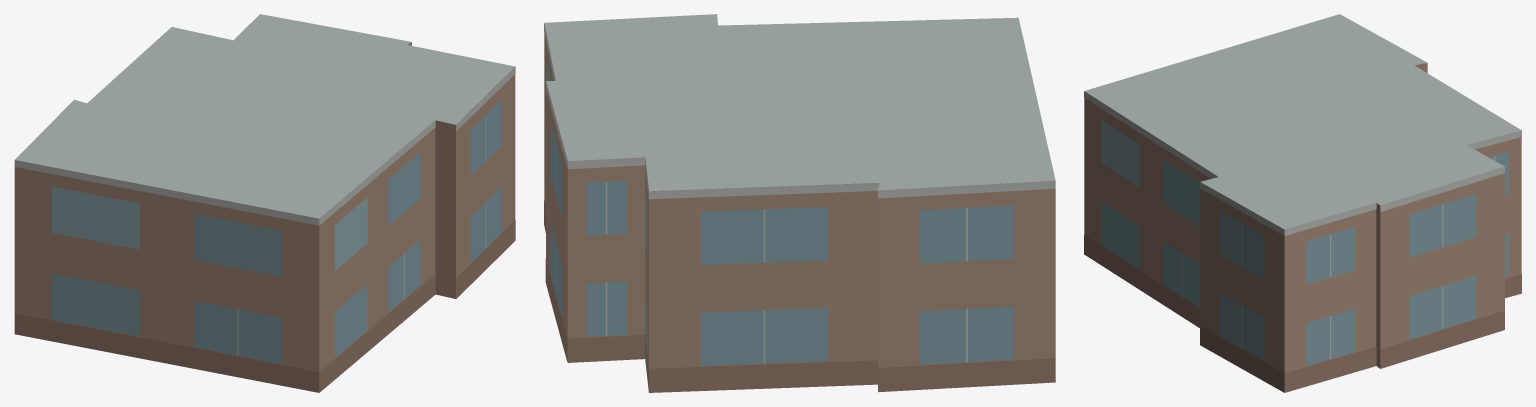
Rendered from survey-upis-32675361.glb.
3 renders of one model, left to right at view 1: azimuth 30°, elevation 25°; view 2: azimuth 150°, elevation 25°; view 3: azimuth 270°, elevation 25°, orthographic. The views are drawn at different scales.
Visible parts, largest first — view 1: survey-upis-32675361.tmp; view 2: survey-upis-32675361.tmp; view 3: survey-upis-32675361.tmp.
Boxes of the visible parts, x1,y1,x2,y2 form: survey-upis-32675361.tmp: [14, 14, 515, 392]; survey-upis-32675361.tmp: [544, 14, 1055, 392]; survey-upis-32675361.tmp: [1084, 14, 1521, 392].
Bounding box in the file's own units: 17.28 × 6.1 × 14.83.
